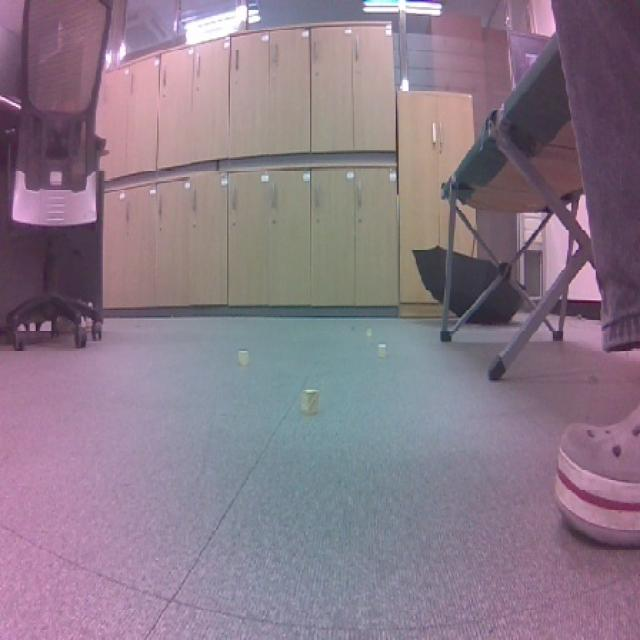obstacle: (294, 383, 332, 425)
